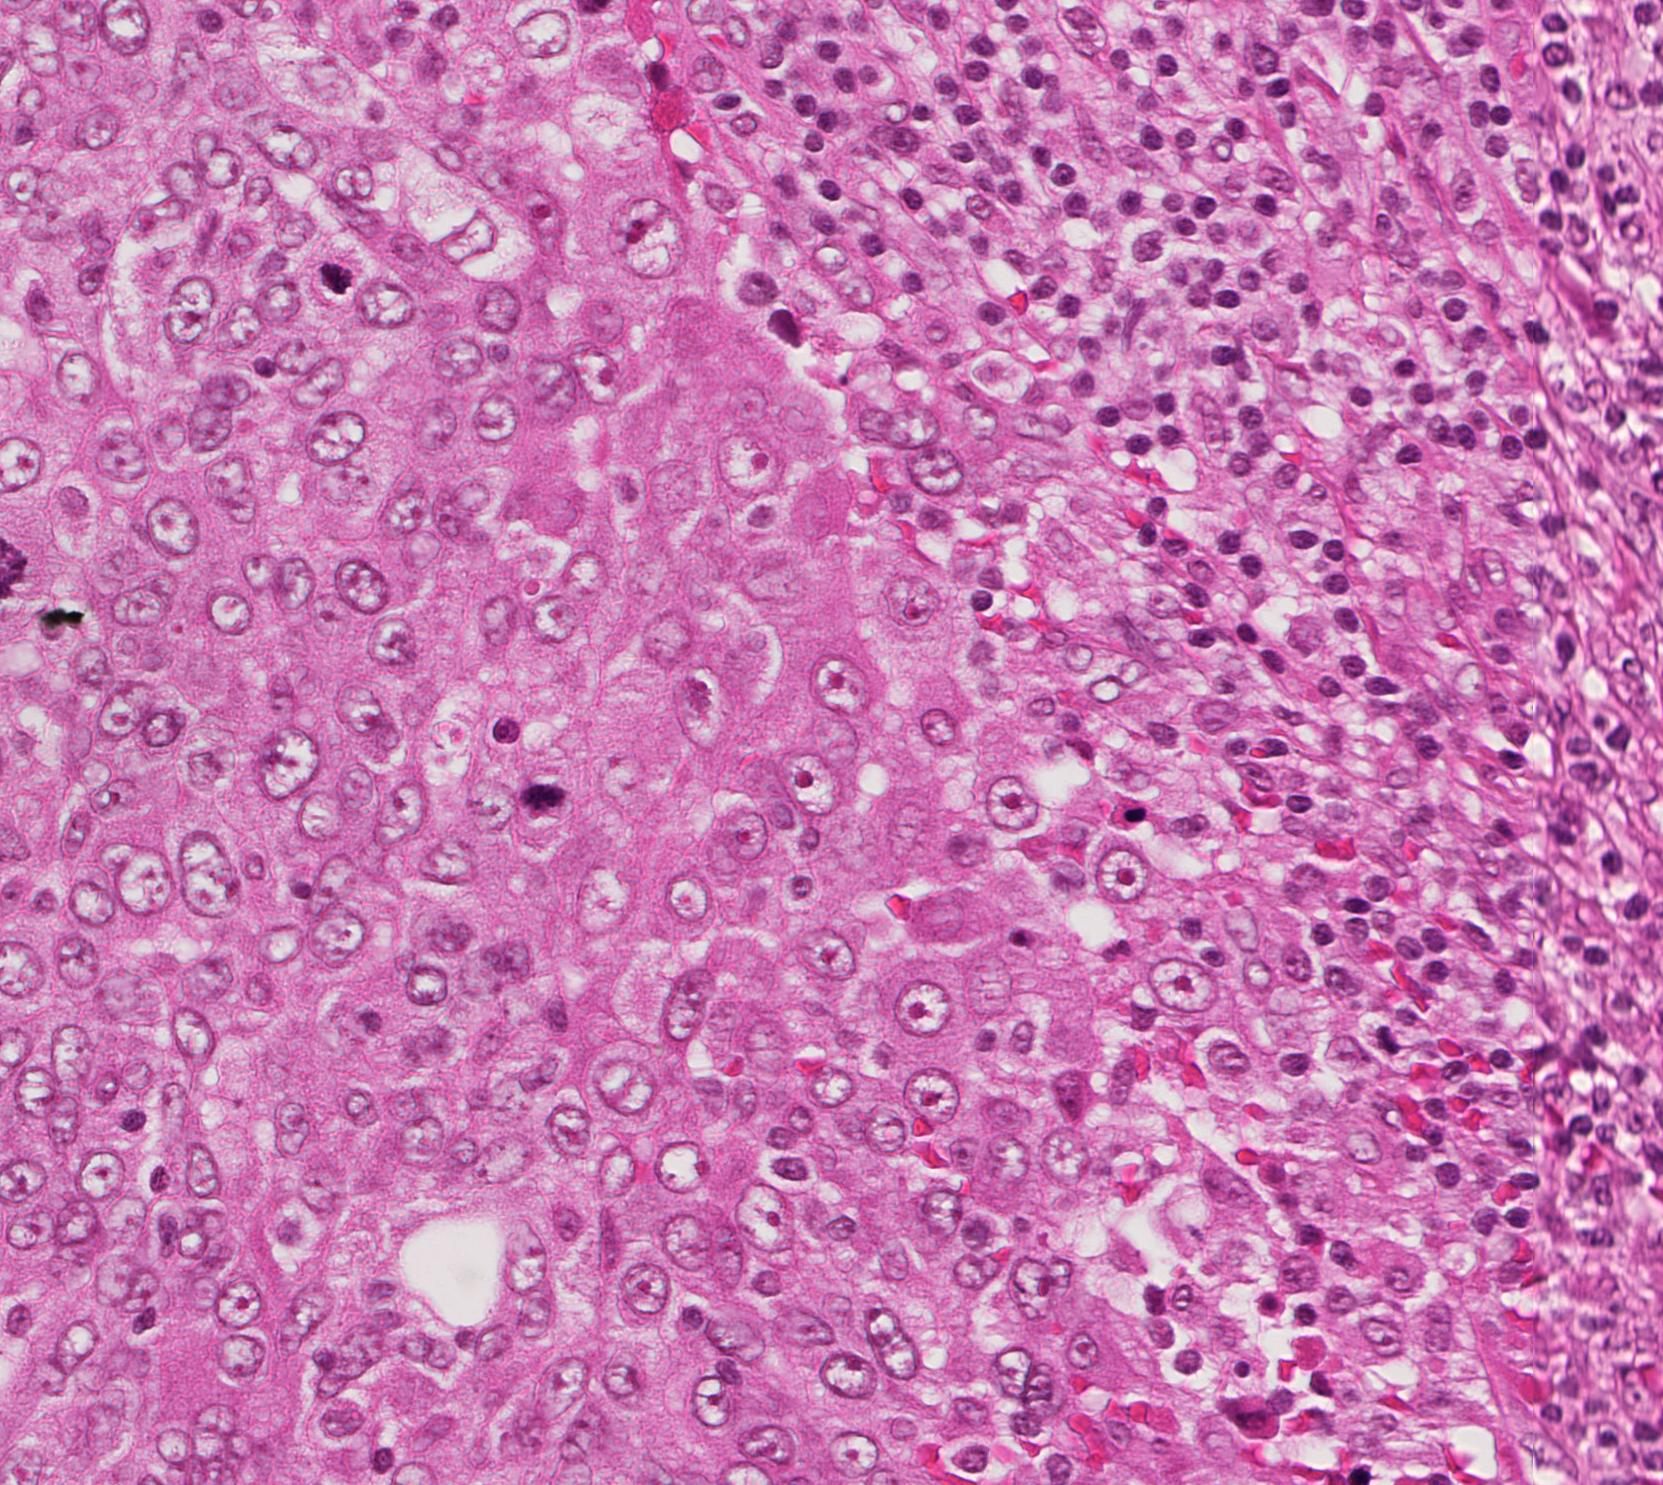mitosis: (305, 248, 366, 308)
